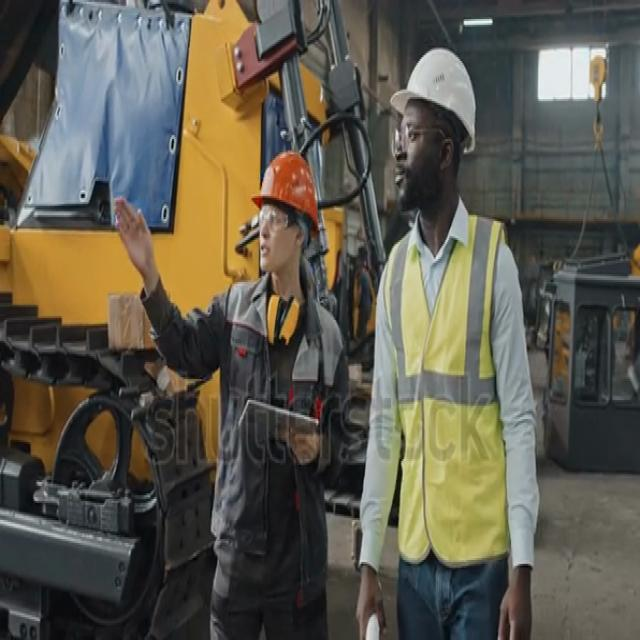goggles: (392, 118, 452, 158), (252, 202, 292, 237)
